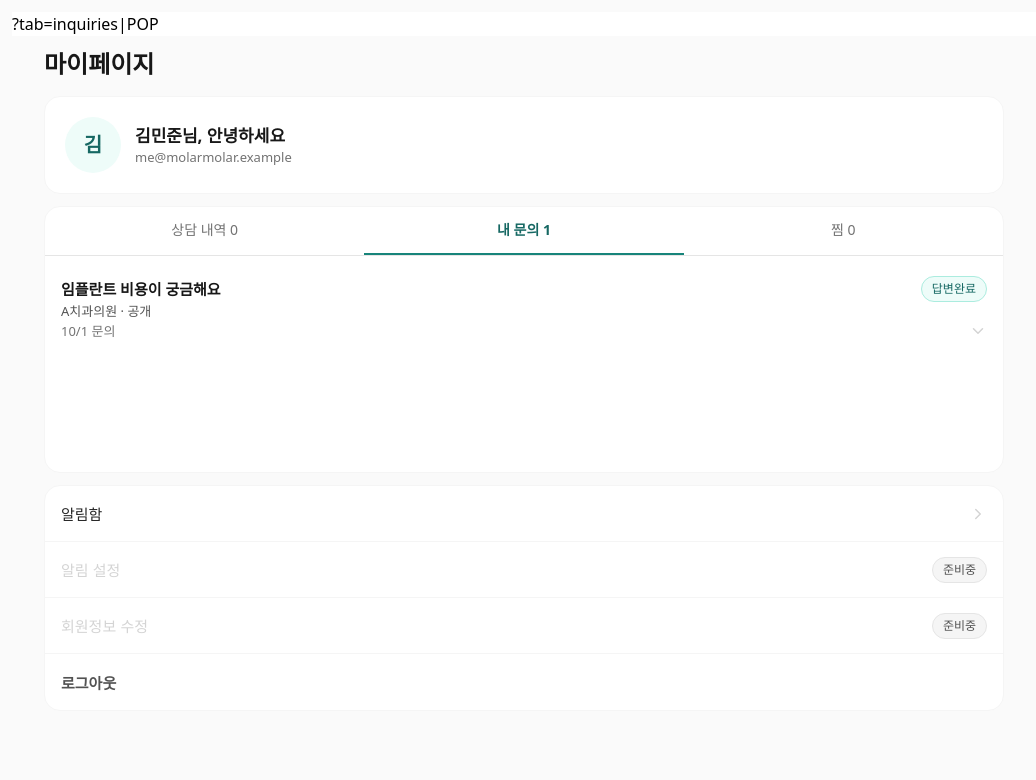
Scenario: MyPage — 내 문의 탭 › 행에 제목·병원·공개 여부·상태가 보이고, 펼치면 본문과 답변을 읽을 수 있다
The width and height of the screenshot is (1036, 780).
Expected: the text "A치과의원 · 공개" is shown, x1=61 y1=302 x2=151 y2=320
Expected: the text "답변완료" is shown, x1=932 y1=281 x2=976 y2=297
Click the button "임플란트 비용이 궁금해요 답변완료 A치과의원 · 공개 10/1 문의".
click(141, 289)  # box x1=61 y1=260 x2=987 y2=357
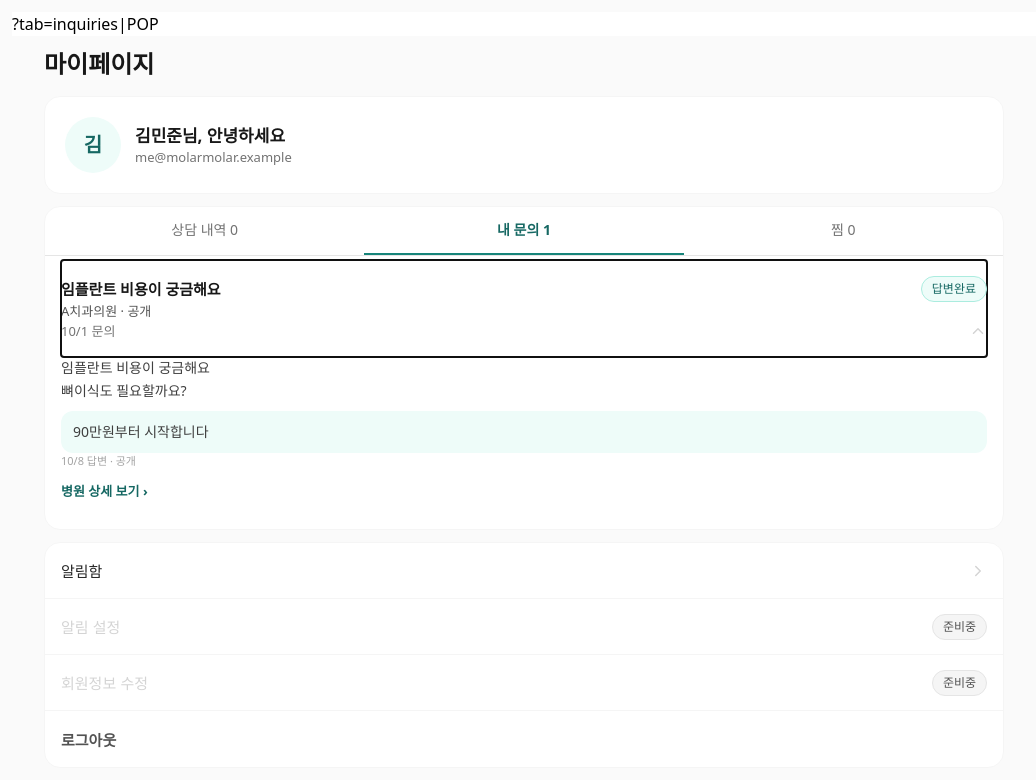
Result: the button "임플란트 비용이 궁금해요 답변완료 A치과의원 · 공개 10/1 문의" is expanded at x1=61 y1=260 x2=987 y2=357
Result: the text "90만원부터 시작합니다" is shown at x1=73 y1=422 x2=209 y2=440
Result: the text "뼈이식도 필요할까요?" is shown at x1=61 y1=358 x2=210 y2=400
